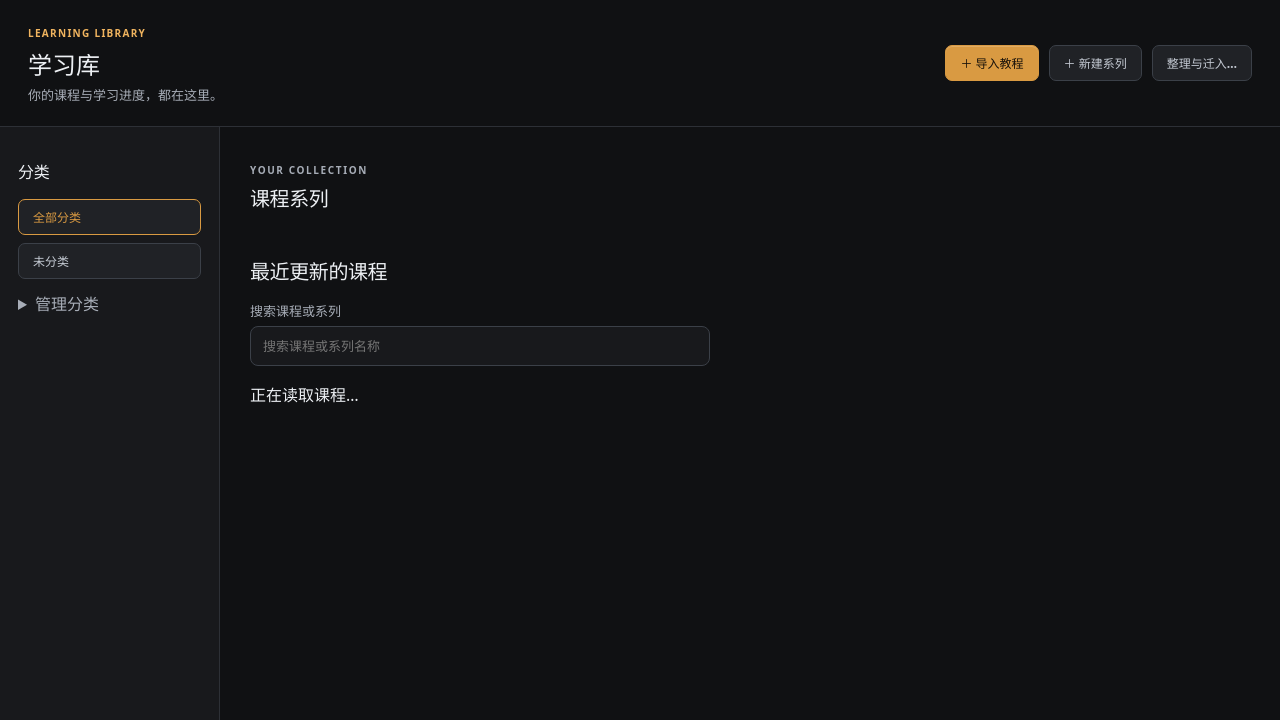
Scenario: creates a learning category and assigns a series without touching courses
The image size is (1280, 720).
Click the heading "管理分类" at (67, 304), box [35, 293, 99, 315]
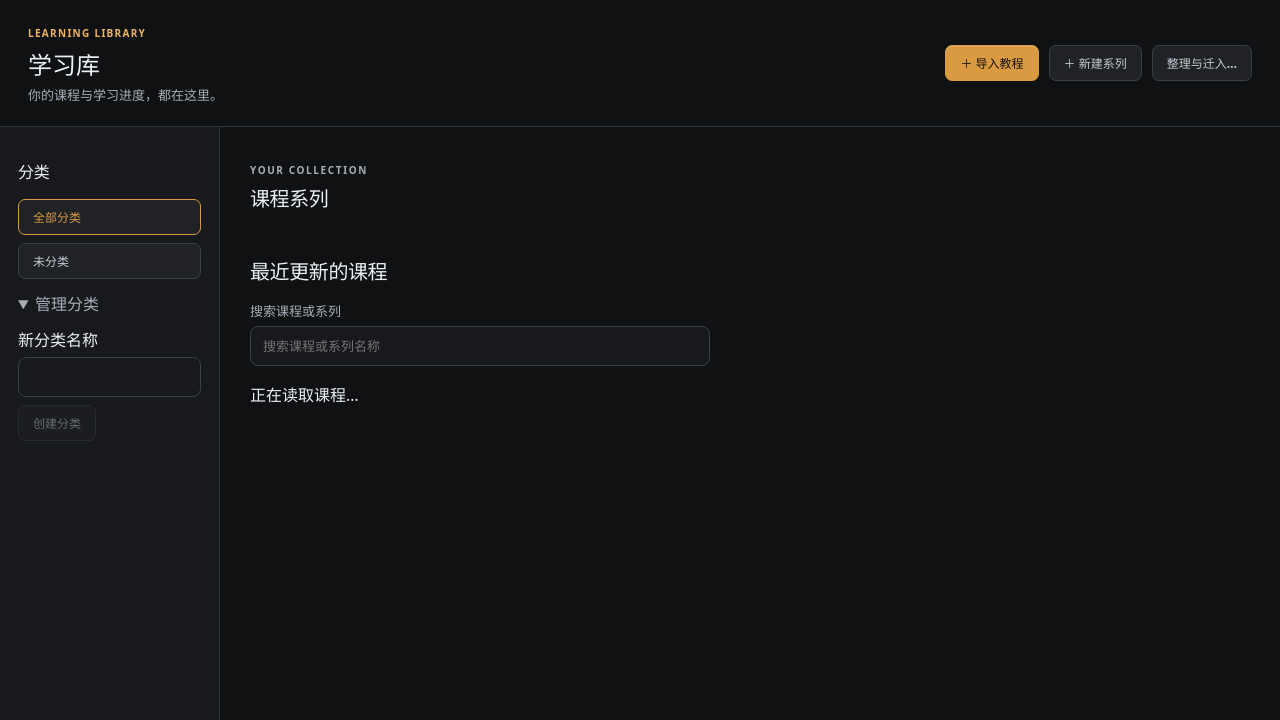
Type "材质" into the field labelled "新分类名称" at (110, 377), box [18, 357, 201, 397]
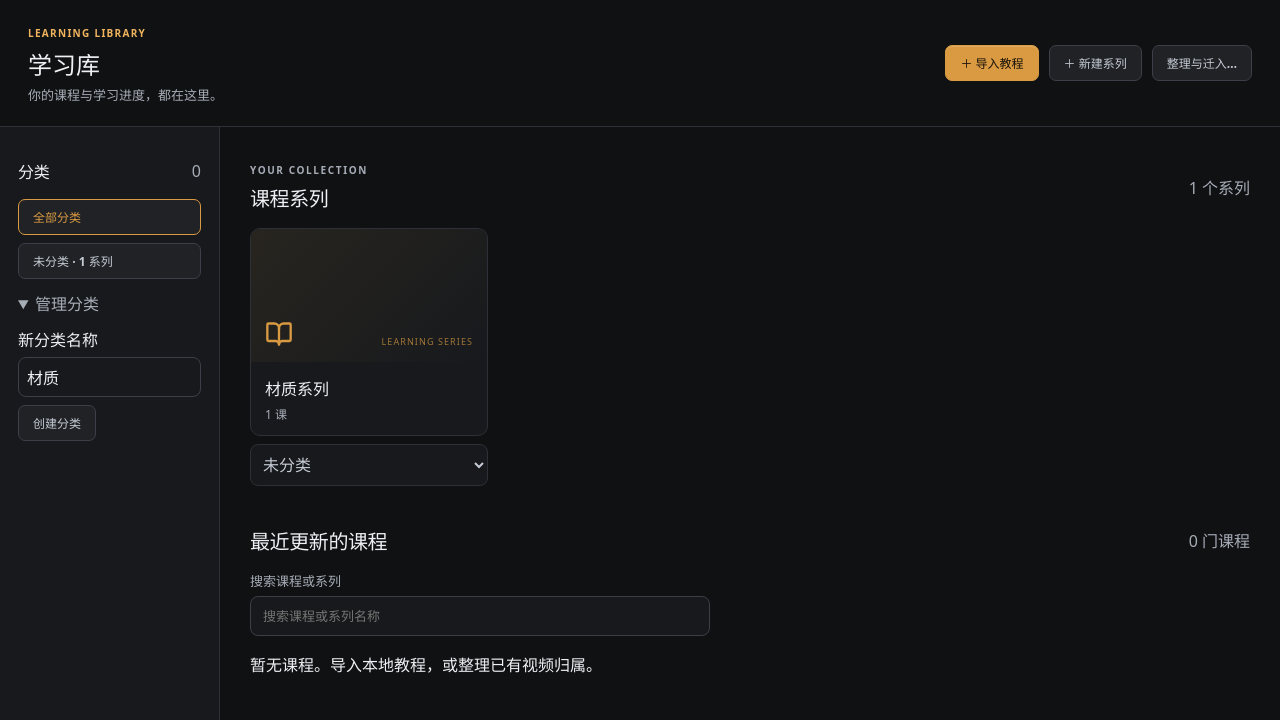
Click the button "创建分类" at (57, 423), box [18, 405, 96, 441]
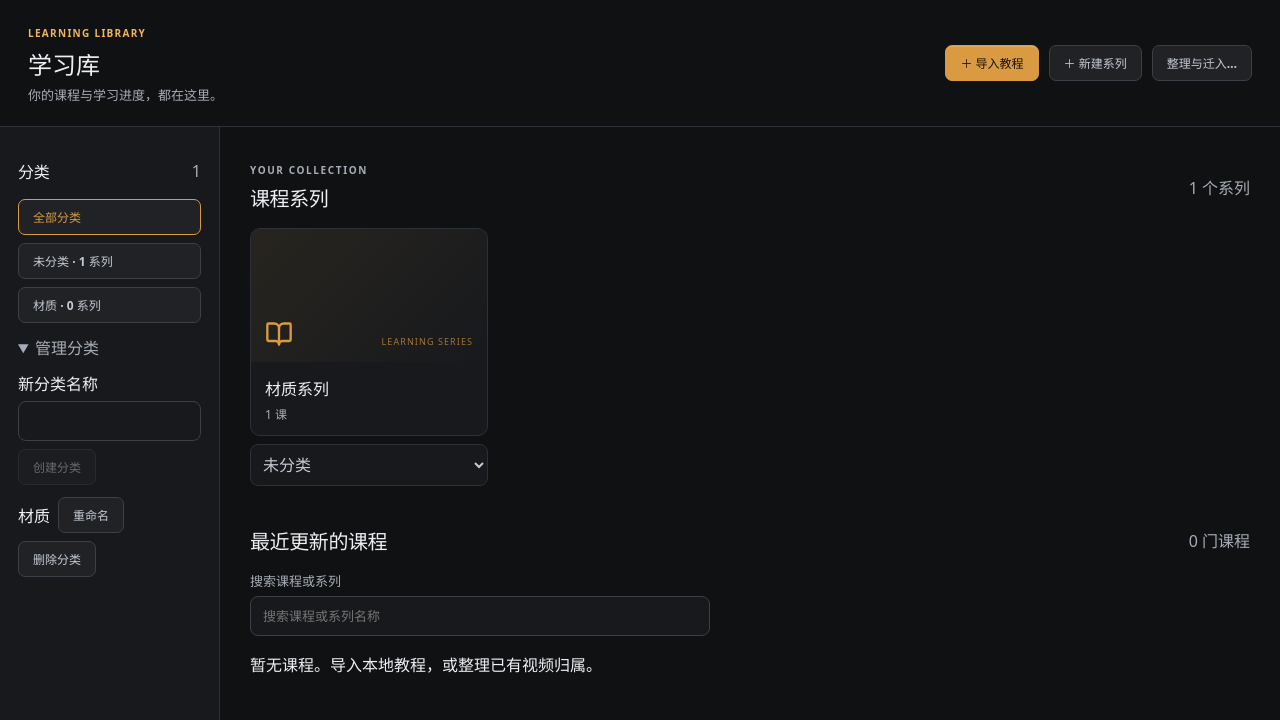
expect the dropdown named "材质系列的分类" is enabled: met
expect the button "材质 · 0 系列" is shown: met, box [18, 287, 201, 323]
Select "材质" in the dropdown named "材质系列的分类" at (369, 465), box [250, 444, 488, 486]
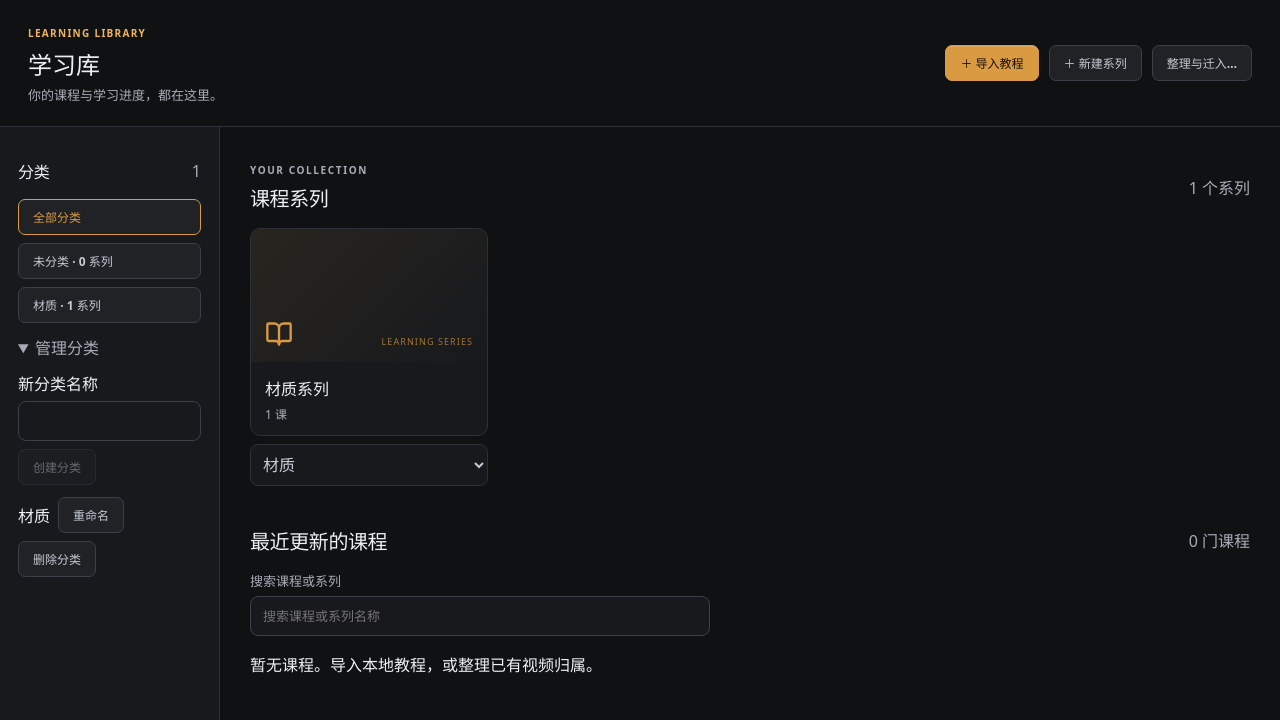
expect the button "材质 · 1 系列" is shown: met, box [18, 287, 201, 323]
